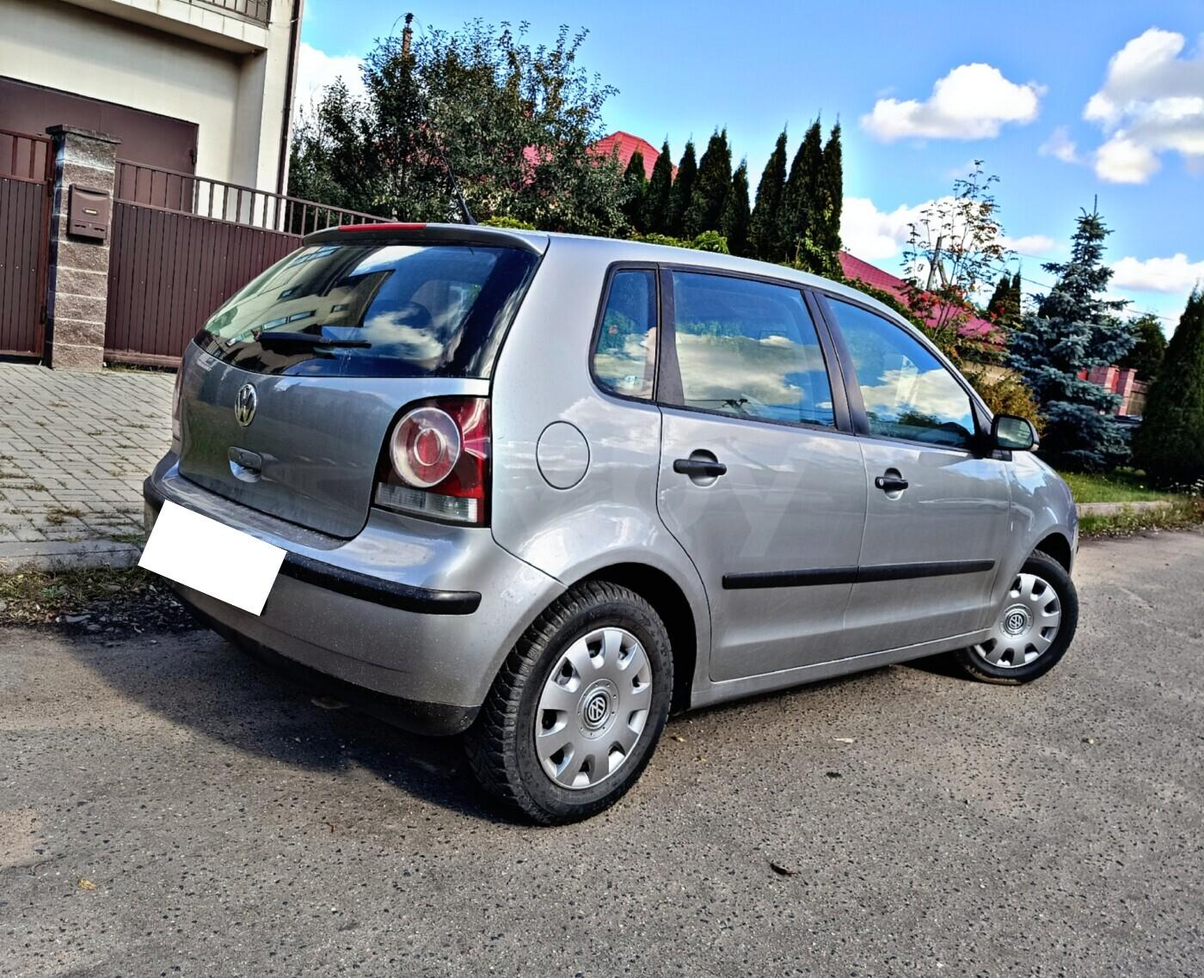Polo_2005-2009: (141, 219, 1104, 844)
